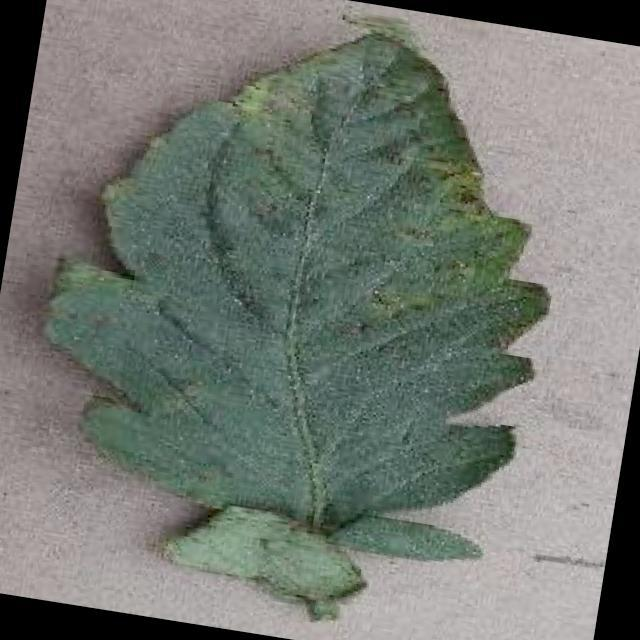Tomato bacterial spot leaf: (3, 0, 597, 585)
